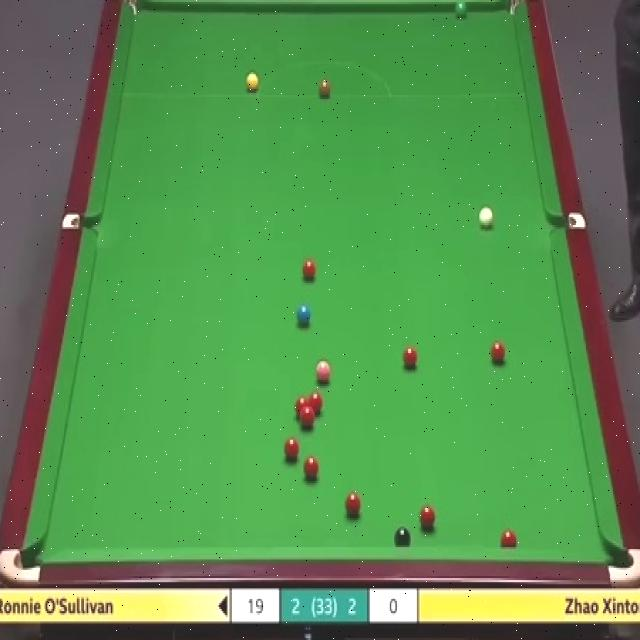black-ball: (395, 525, 411, 548)
blue-ball: (295, 304, 313, 326)
brown-ball: (318, 76, 331, 97)
green-ball: (454, 0, 468, 17)
pink-ball: (316, 359, 334, 387)
red-ball: (303, 452, 321, 481), (345, 490, 362, 520), (282, 435, 301, 461), (418, 506, 436, 533), (402, 342, 418, 370), (301, 259, 317, 284), (294, 396, 309, 422), (490, 341, 505, 366), (309, 392, 323, 416), (500, 528, 518, 546), (301, 410, 316, 430)
white-ball: (477, 208, 494, 230)
yellow-ball: (245, 75, 258, 92)
